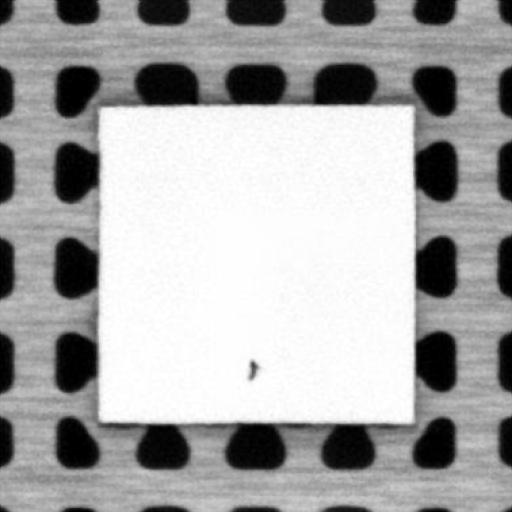DIE_INK: (244, 355, 259, 380)
